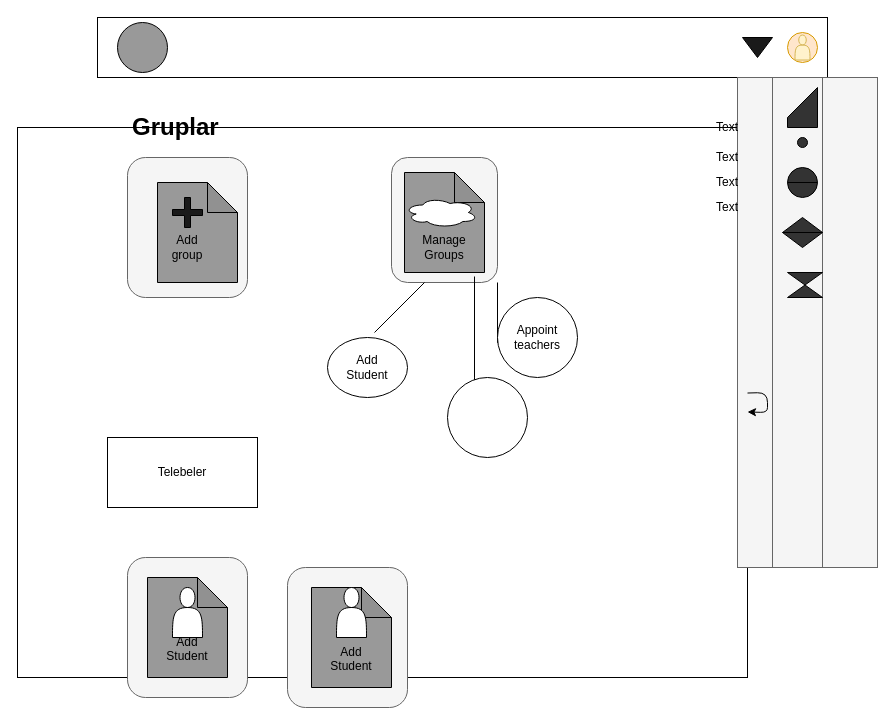
This 895x725 diagram has some shape labels left out. Here are the shapes that lost their labels. From the top down, the centre of each, then its label:
At point (142, 47): "logo".
At point (487, 417): "Remove Student".
